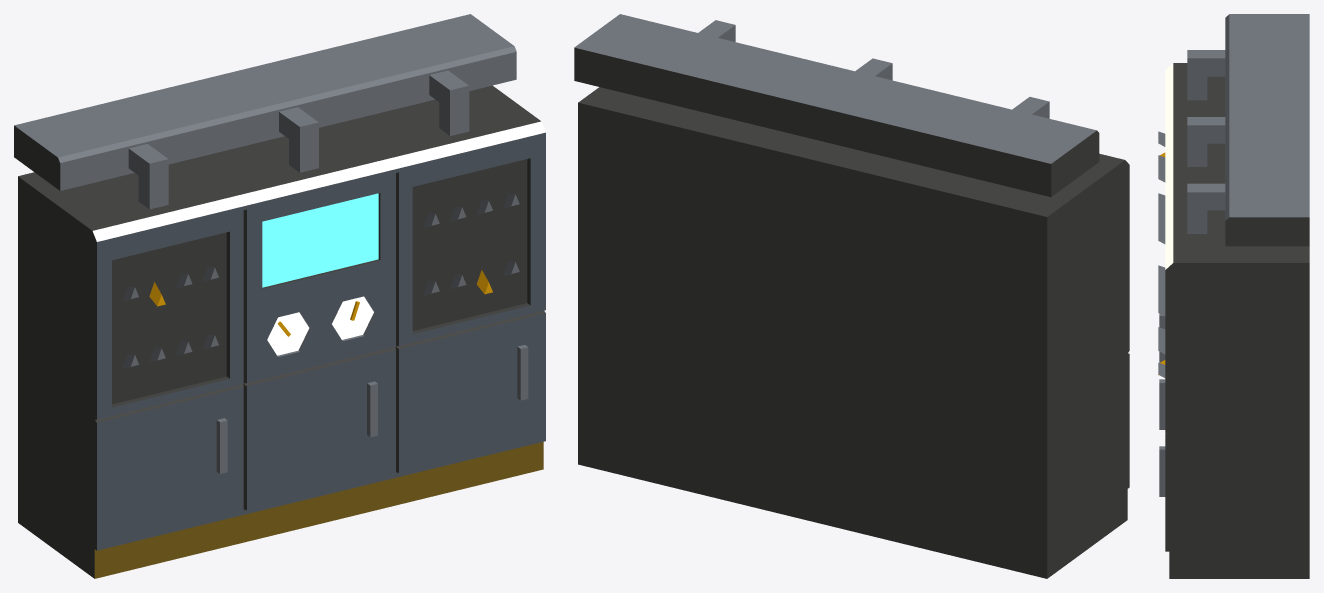
The model's file is switchboard.glb.
3 views of the same model, side by side, from view 1: azimuth 30°, elevation 25°; view 2: azimuth 150°, elevation 25°; view 3: azimuth 270°, elevation 25° (orthographic). The views are drawn at different scales.
Visible parts, largest first — view 1: switchboard; view 2: switchboard; view 3: switchboard.
Boxes of the visible parts, bbox=[...] form: switchboard: bbox=[14, 14, 545, 578]; switchboard: bbox=[574, 14, 1129, 578]; switchboard: bbox=[1158, 14, 1309, 578].
Size of the model in its own units: 2.4 by 2 by 0.755.
